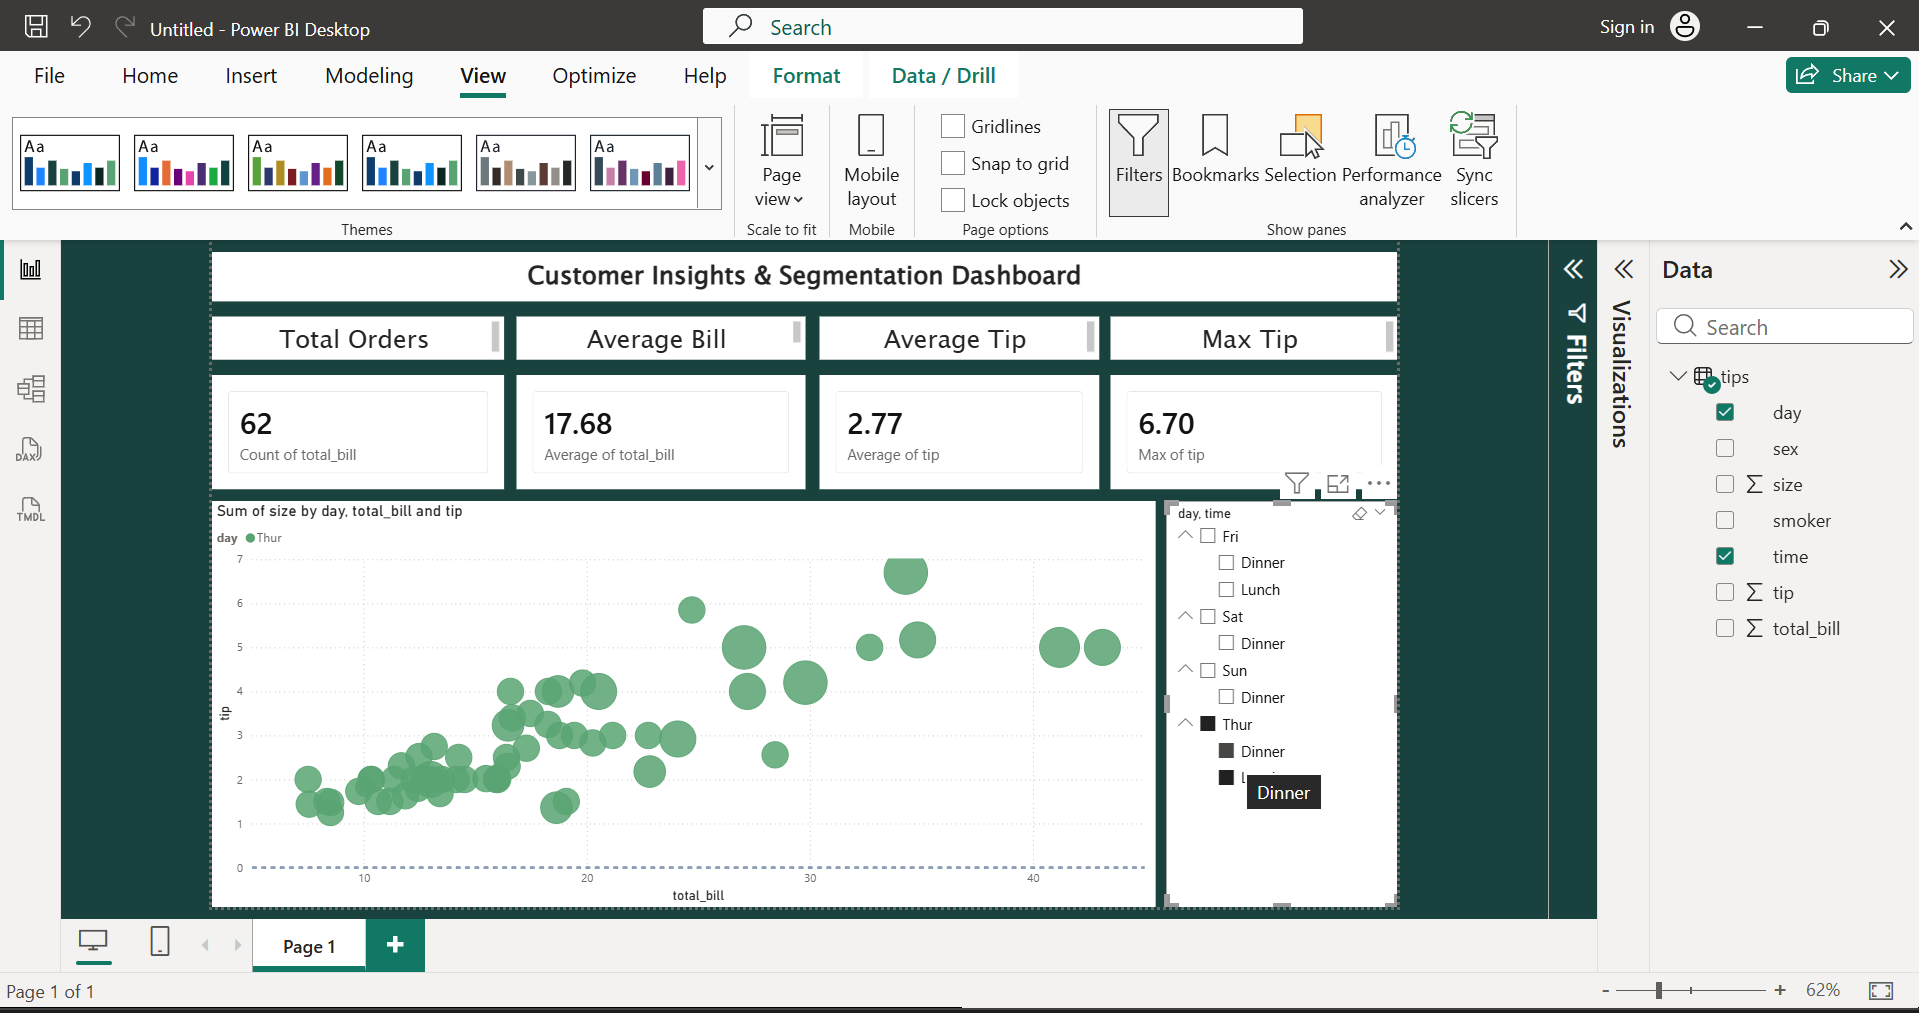

Layout of this report page (visuals, bound fields, positions):
{"tool":"powerbi","page":{"name":"Page 1","canvas":[1280,720],"ordinal":0},"visuals":[{"type":"cardVisual","fields":{"Data":["CountNonNull(tips.total_bill)"]},"box":[0,145,315,123.3],"z":0},{"type":"textbox","box":[0,83.3,315,46.7],"z":1000},{"type":"cardVisual","fields":{"Data":["Avg(tips.total_bill)"]},"box":[328.3,145,311.7,123.3],"z":2000},{"type":"textbox","box":[328.3,83.3,311.7,46.7],"z":3000},{"type":"textbox","box":[655,83.3,301.7,46.7],"z":4000},{"type":"cardVisual","fields":{"Data":["Avg(tips.tip)"]},"box":[655,145,301.7,123.3],"z":5000},{"type":"textbox","box":[970,83.3,310,46.7],"z":6000},{"type":"cardVisual","fields":{"Data":["Max(tips.tip)"]},"box":[970,145,310,123.3],"z":7000},{"type":"textbox","box":[0,13,1279.2,53.4],"z":8000},{"type":"scatterChart","fields":{"X":["tips.total_bill"],"Y":["tips.tip"],"Size":["Sum(tips.size)"],"Series":["tips.day"]},"box":[0,281.7,1018.3,438.3],"z":9000},{"type":"slicer","fields":{"Values":["tips.day","tips.time"]},"box":[1030,281.7,250,438.3],"z":10000}]}

Visuals, with their boxes on the page's 1280x720 design canvas (x1, y1, x2, y2). These are canvas units, not pixel positions in the 1919x1013 screenshot, which may show the page scaled, cropped or inside an application window:
cardVisual - CountNonNull(tips.total_bill): crop(0, 145, 315, 268)
textbox: crop(0, 83, 315, 130)
cardVisual - Avg(tips.total_bill): crop(328, 145, 640, 268)
textbox: crop(328, 83, 640, 130)
textbox: crop(655, 83, 957, 130)
cardVisual - Avg(tips.tip): crop(655, 145, 957, 268)
textbox: crop(970, 83, 1280, 130)
cardVisual - Max(tips.tip): crop(970, 145, 1280, 268)
textbox: crop(0, 13, 1279, 66)
scatterChart - tips.total_bill x tips.tip: crop(0, 282, 1018, 720)
slicer - tips.day x tips.time: crop(1030, 282, 1280, 720)
